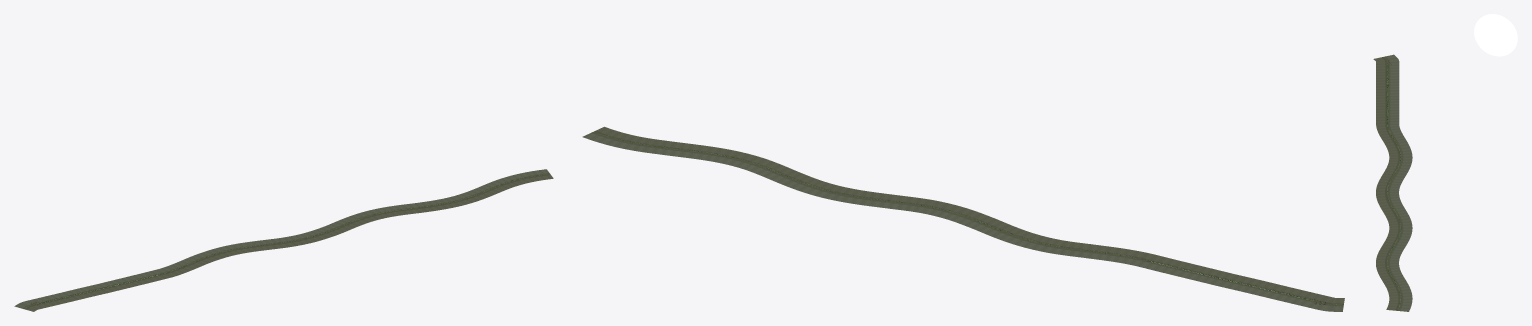
Rendered from arenberg.glb.
3 views of the same model, side by side, from view 1: azimuth 30°, elevation 25°; view 2: azimuth 150°, elevation 25°; view 3: azimuth 270°, elevation 25° (orthographic). The views are drawn at different scales.
Parts seen in each view (by area): view 1: Land_008, Land_005, Land_009, Land_004, Land_002, Land_007, Land_003, Land_006, Land_000, Land_001, Land_010; view 2: Land_009, Land_003, Land_006, Land_008, Land_002, Land_005, Land_007, Land_004, Land_010, Land_001, Land_000; view 3: Sun, Land_000, Land_010, Land_001, Land_004, Land_002, Land_007, Land_008, Land_005, Land_003, Land_009, Land_006 (+1 smaller).
Boxes of the visible parts, x1,y1,x2,y2 form: Land_008: (384,200,443,216); Land_005: (246,235,306,251); Land_009: (436,188,492,209); Land_004: (196,242,253,262); Land_002: (110,269,167,289); Land_007: (336,207,392,228); Land_003: (157,255,210,278); Land_006: (296,222,351,243); Land_000: (14,292,73,311); Land_001: (62,281,120,300); Land_010: (477,173,531,195); Land_009: (687,144,768,170); Land_003: (1070,243,1153,266); Land_006: (879,194,961,218); Land_008: (749,160,824,192); Land_002: (1138,254,1218,282); Land_005: (944,207,1019,238); Land_007: (805,182,886,207); Land_004: (998,228,1079,255); Land_010: (613,134,695,157); Land_001: (1203,270,1284,297); Land_000: (1269,286,1344,311); Sun: (1474,14,1517,56); Land_000: (1373,54,1399,79); Land_010: (1381,276,1412,300); Land_001: (1376,78,1399,101); Land_004: (1386,145,1412,169); Land_002: (1376,101,1399,124); Land_007: (1384,211,1412,234); Land_008: (1377,233,1411,256); Land_005: (1376,167,1409,190); Land_003: (1376,123,1408,146); Land_009: (1376,255,1403,278); Land_006: (1376,189,1405,213).
Size of the model in its own units: 11007 by 3554 by 2616.
